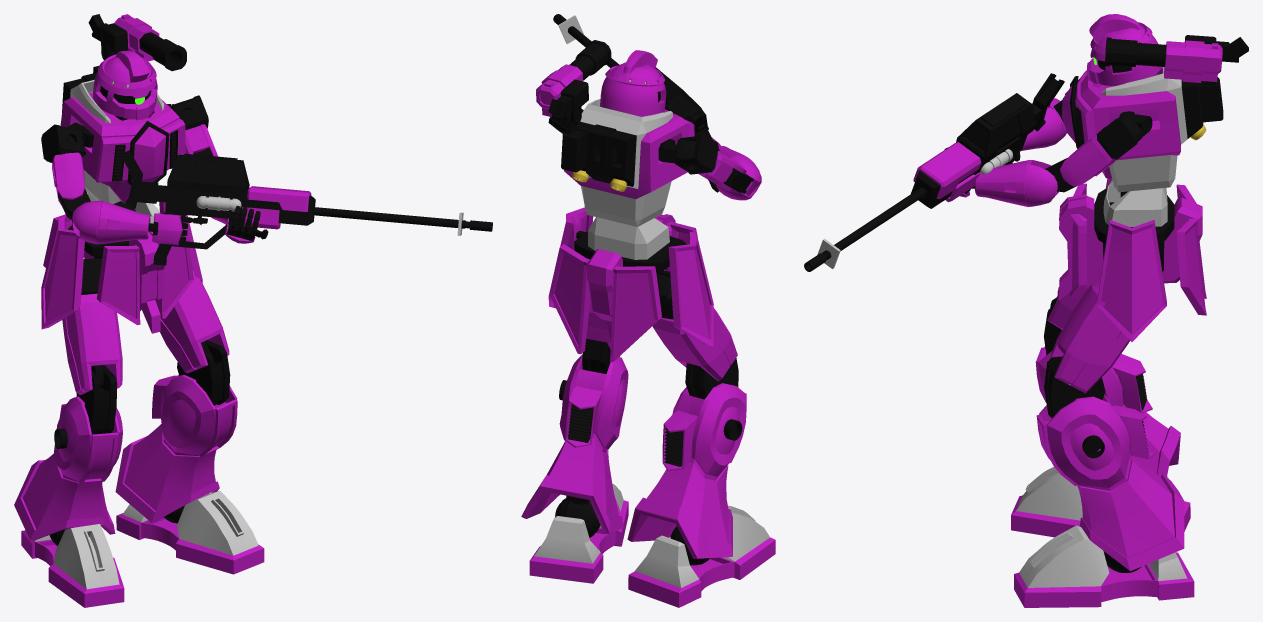
The model's file is Pawn_RangeType_Equipo1.fbx.
The picture shows the model from 3 angles, left to right: view 1: azimuth 30°, elevation 25°; view 2: azimuth 150°, elevation 25°; view 3: azimuth 270°, elevation 25°; orthographic projection. The views are drawn at different scales.
Parts seen in each view (by area): view 1: Pierna_Femur_Armor_IZQ, Pierna_Femur_Armor_DER, Torso_Main, Waist_Front_Armor_Generic, Pierna_Muslo_Armor_DER, Pierna_Muslo_Armor_IZQ, Pierna_Pie_Top_IZQ, Waist_Armor_Lat_IZQ, Cabeza_RangeType, Pierna_Pie_Top_DER, Pierna_Pie_Bottom_IZQ, Weapon_Mira (+22 smaller); view 2: Pierna_Femur_Armor_DER, Pierna_Femur_Armor_IZQ, Waist_Back_Armor_Generic, Waist_Armor_Lat_IZQ (×2), Cabeza_RangeType, Pierna_Pie_Top_DER, Pierna_Pie_Bottom_DER, Torso_Main, Pierna_Muslo_Armor_DER, Torso_BackPack_Main, Torso_Abdomen_Inf_Armadura, Torso_Abdomen_Sup_Armadura (+24 smaller); view 3: Pierna_Femur_Armor_IZQ, Waist_Armor_Lat_IZQ, Torso_Main, Pierna_Muslo_Armor_IZQ, Pierna_Pie_Top_IZQ, Pierna_Pie_Bottom_IZQ, Pierna_Femur_Armor_DER, Weapon_Mira, Cabeza_RangeType, Pierna_Pie_Top_DER, Waist_Front_Armor, Backpack_Weapon_MainBody (+23 smaller).
Boxes of the visible parts, x1,y1,x2,y2 form: Pierna_Femur_Armor_IZQ: (115, 374, 237, 522); Pierna_Femur_Armor_DER: (14, 396, 122, 540); Torso_Main: (60, 92, 185, 203); Waist_Front_Armor_Generic: (96, 229, 193, 325); Pierna_Muslo_Armor_DER: (62, 293, 122, 394); Pierna_Muslo_Armor_IZQ: (157, 270, 229, 373); Pierna_Pie_Top_IZQ: (122, 490, 258, 555); Waist_Armor_Lat_IZQ: (41, 217, 84, 329); Cabeza_RangeType: (93, 50, 157, 120); Pierna_Pie_Top_DER: (34, 524, 119, 589); Pierna_Pie_Bottom_IZQ: (116, 513, 264, 574); Weapon_Mira: (167, 153, 249, 194); Pierna_Femur_Armor_DER: (627, 383, 746, 558); Pierna_Femur_Armor_IZQ: (521, 354, 628, 533); Waist_Back_Armor_Generic: (549, 244, 661, 362); Waist_Armor_Lat_IZQ (×2): (548, 207, 713, 346); Cabeza_RangeType: (600, 50, 666, 116); Pierna_Pie_Top_DER: (635, 505, 769, 587); Pierna_Pie_Bottom_DER: (628, 537, 775, 607); Torso_Main: (564, 109, 694, 198); Pierna_Muslo_Armor_DER: (652, 308, 737, 381); Torso_BackPack_Main: (577, 122, 636, 186); Torso_Abdomen_Inf_Armadura: (588, 217, 669, 259); Torso_Abdomen_Sup_Armadura: (581, 181, 671, 226); Pierna_Femur_Armor_IZQ: (1036, 395, 1184, 571); Waist_Armor_Lat_IZQ: (1097, 220, 1166, 341); Torso_Main: (1075, 67, 1180, 178); Pierna_Muslo_Armor_IZQ: (1049, 279, 1129, 393); Pierna_Pie_Top_IZQ: (1019, 525, 1187, 587); Pierna_Pie_Bottom_IZQ: (1014, 552, 1194, 607); Pierna_Femur_Armor_DER: (1035, 346, 1180, 477); Weapon_Mira: (956, 93, 1035, 164); Cabeza_RangeType: (1087, 14, 1161, 86); Pierna_Pie_Top_DER: (1016, 467, 1168, 520); Waist_Front_Armor: (1059, 194, 1103, 300); Backpack_Weapon_MainBody: (1164, 40, 1222, 82).
Bounding box in the file's own units: 868 × 1303 × 966.
